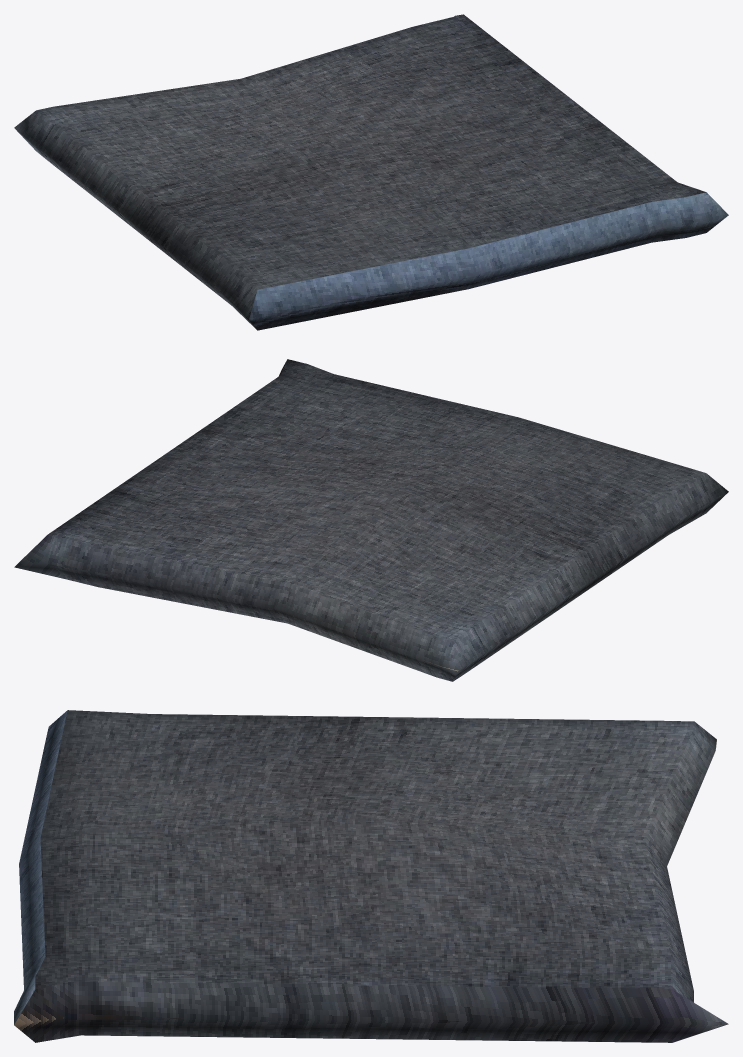
Rendered from Almohadon.glb.
3 views of the same model, one above another, from view 1: azimuth 30°, elevation 25°; view 2: azimuth 150°, elevation 25°; view 3: azimuth 270°, elevation 25° (orthographic). The views are drawn at different scales.
Visible parts, largest first — view 1: Almohadon; view 2: Almohadon; view 3: Almohadon.
Part boxes in pixels (x1,y1,x2,y2): Almohadon: (14, 14, 728, 330); Almohadon: (14, 359, 728, 681); Almohadon: (14, 710, 728, 1042).
Size of the model in its own units: 0.2218 by 0.025 by 0.2245.
1 material, 1 textured.
